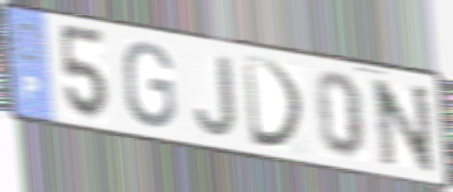0: (313, 68, 368, 164)
5: (57, 20, 111, 126)
D: (240, 53, 309, 153)
G: (121, 39, 179, 131)
J: (192, 53, 239, 140)
N: (368, 76, 438, 177)
